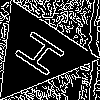H: (12, 28, 76, 84)
